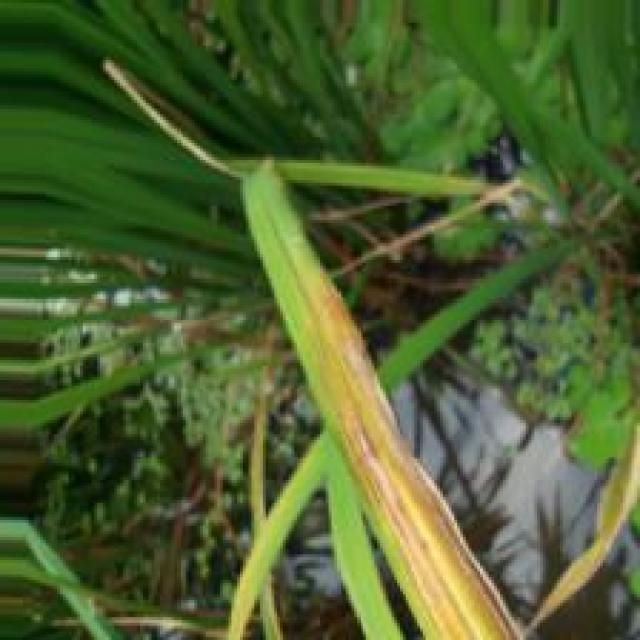Rice False Smut: (316, 275, 523, 640)
